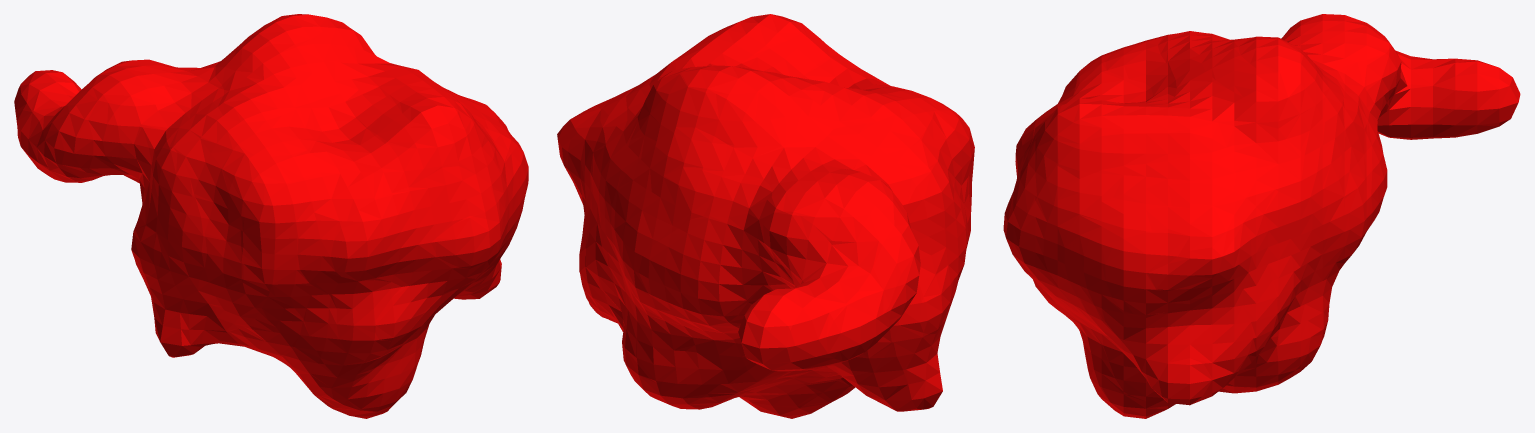
Rendered from ahpC_coarse.dae.
3 views of the same model, side by side, from view 1: azimuth 30°, elevation 25°; view 2: azimuth 150°, elevation 25°; view 3: azimuth 270°, elevation 25° (orthographic). The views are drawn at different scales.
Visible parts, largest first — view 1: ahpC; view 2: ahpC; view 3: ahpC.
Part boxes in pixels (<box>): ahpC: <box>14,14,528,418</box>; ahpC: <box>557,14,974,418</box>; ahpC: <box>1003,14,1520,418</box>.
Bounding box in the file's own units: 48.8 × 42.98 × 55.02.
